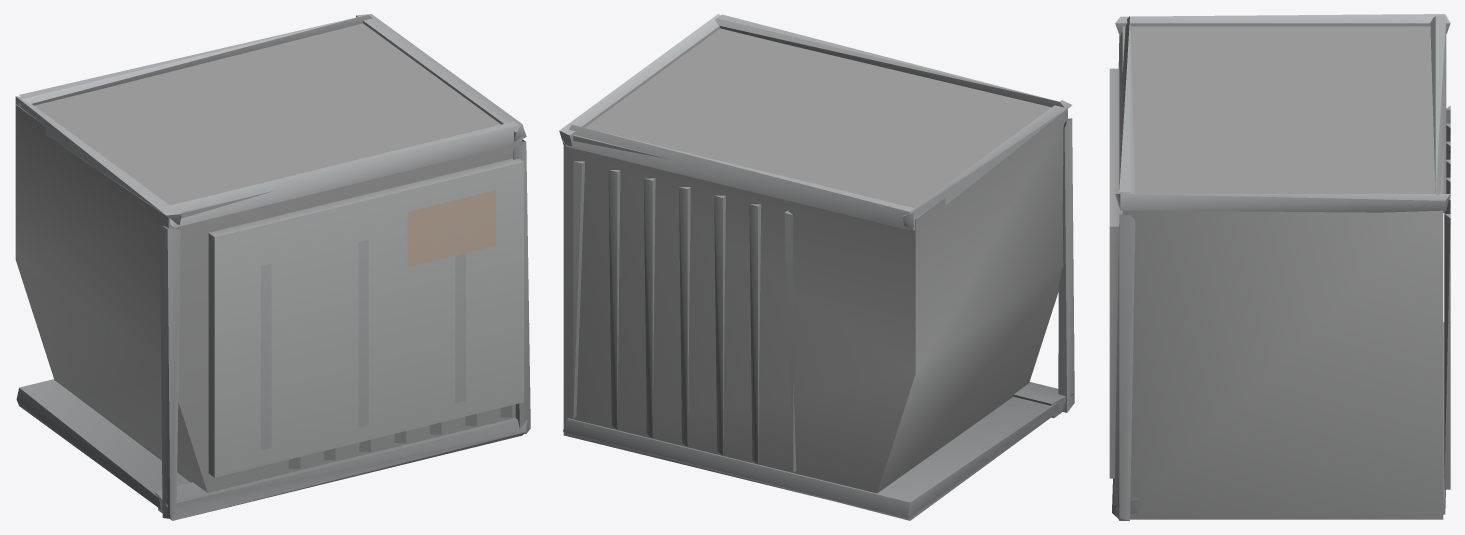
Rendered from uld.lod1.glb.
3 views of the same model, side by side, from view 1: azimuth 30°, elevation 25°; view 2: azimuth 150°, elevation 25°; view 3: azimuth 270°, elevation 25° (orthographic). The views are drawn at different scales.
Size of the model in its own units: 2.06 by 1.68 by 1.62.
